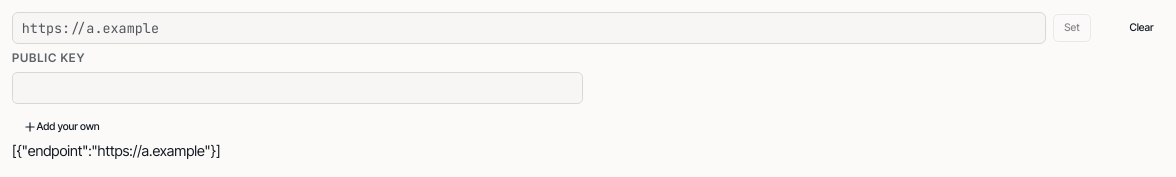
Test: SchemaSetValueArrayControl › ignores Enter that confirms an IME candidate
Replace the text in the field named "Witnesses 1" with "https://b.example". click: (529, 28)
box: [12,12,1046,44]
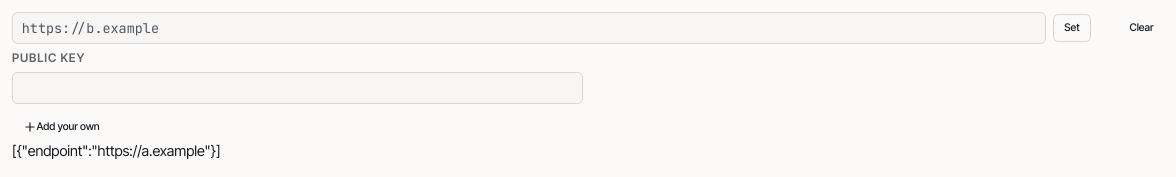
Press Enter in the field named "Witnesses 1", box [12,12,1046,44]
Expected: the text with test id "value" shows "https://a.example", [12,142,220,160]
Press Enter in the field named "Witnesses 1", box [12,12,1046,44]
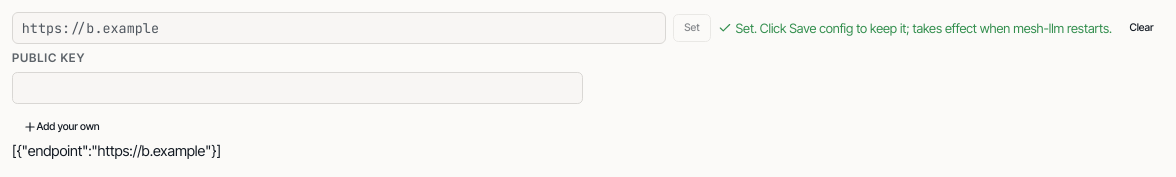
Now the text with test id "value" shows "https://b.example", box [12,142,221,160]
